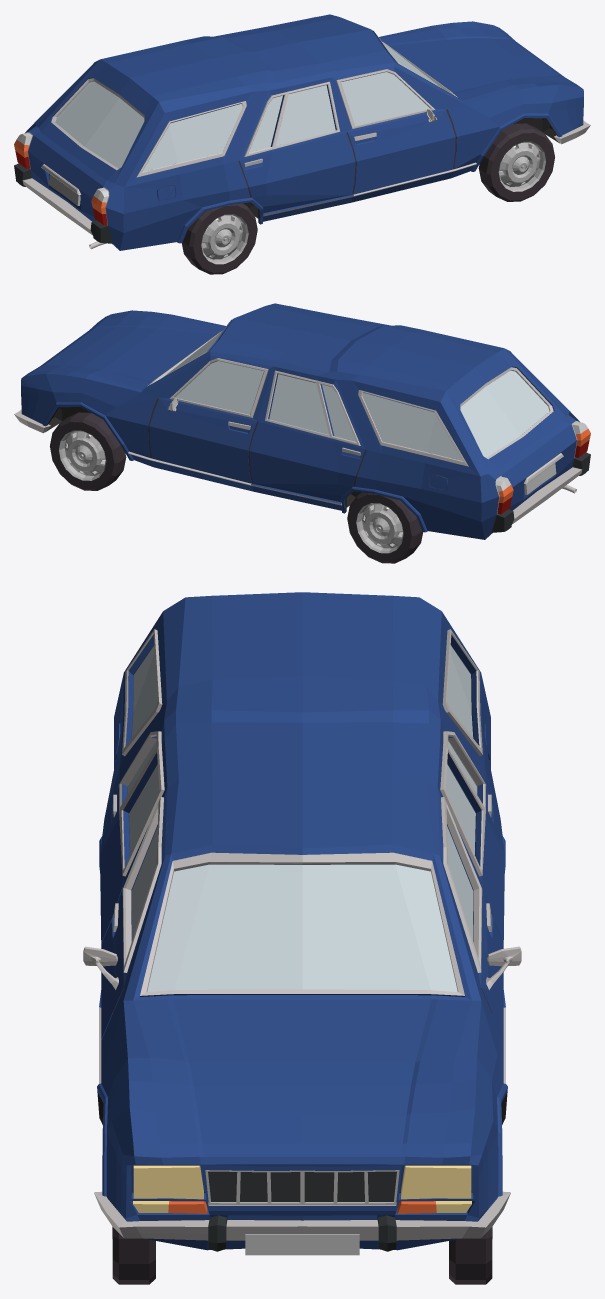
Rendered from obj_peugeot_504_break.glb.
The picture shows the model from 3 angles, top to bottom: view 1: azimuth 30°, elevation 25°; view 2: azimuth 150°, elevation 25°; view 3: azimuth 270°, elevation 25°; orthographic projection. The views are drawn at different scales.
Parts seen in each view (by area): view 1: Object_11, Object_10, Object_13, Object_14, Object_15, Object_6, Object_8, Object_7, Object_3; view 2: Object_11, Object_10, Object_13, Object_14, Object_15, Object_6, Object_8, Object_7, Object_3; view 3: Object_11, Object_10, Object_13, Object_6, Object_9, Object_14, Object_7, Object_15, Object_3.
Boxes of the visible parts, box(x1,y1,x2,y2) form: Object_11: box(25, 14, 583, 250); Object_10: box(55, 41, 447, 171); Object_13: box(22, 16, 590, 249); Object_14: box(157, 109, 554, 274); Object_15: box(201, 141, 545, 264); Object_6: box(14, 163, 113, 243); Object_8: box(177, 118, 559, 242); Object_7: box(48, 174, 80, 205); Object_3: box(14, 139, 106, 214); Object_11: box(21, 303, 579, 539); Object_10: box(157, 330, 549, 460); Object_13: box(14, 305, 582, 524); Object_14: box(50, 398, 447, 563); Object_15: box(59, 430, 403, 553); Object_6: box(491, 452, 590, 532); Object_8: box(45, 407, 427, 531); Object_7: box(524, 463, 556, 494); Object_3: box(498, 428, 590, 503); Object_11: box(97, 592, 507, 1250); Object_10: box(127, 645, 477, 991); Object_13: box(83, 629, 521, 1240); Object_6: box(208, 1171, 396, 1251); Object_9: box(133, 1165, 471, 1212); Object_14: box(112, 988, 492, 1284); Object_7: box(245, 1234, 359, 1255); Object_15: box(112, 1170, 492, 1238); Object_3: box(168, 1201, 436, 1213).
Bounding box in the file's own units: 12.52 × 4.23 × 4.83.
